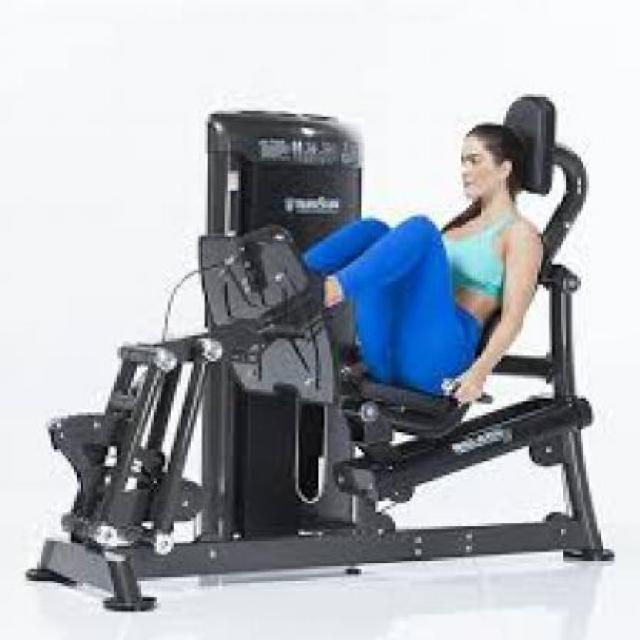leg press: (24, 71, 640, 617)
